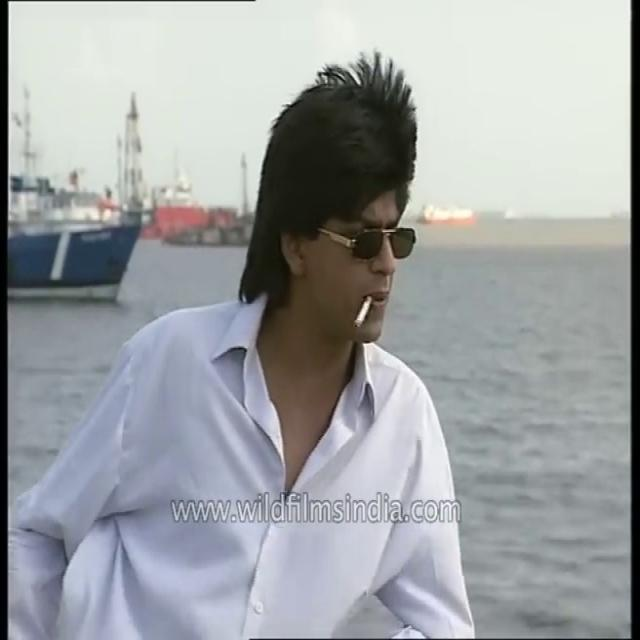Smooking: (350, 286, 376, 338)
